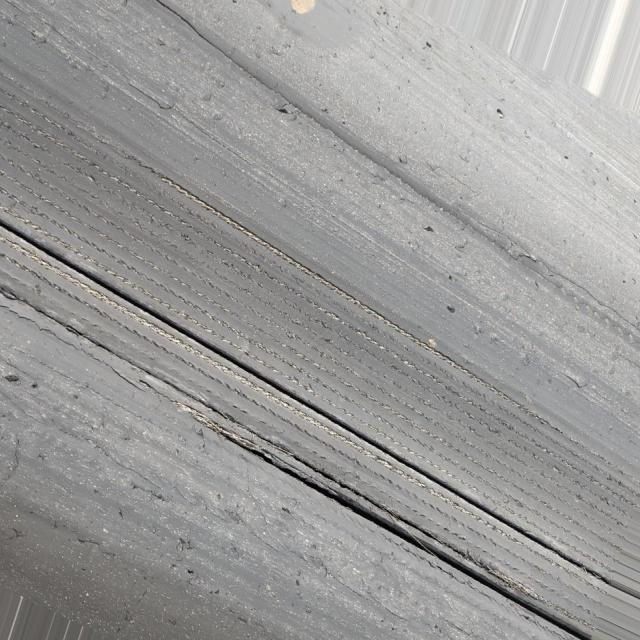Tear: (0, 200, 602, 593), (0, 276, 576, 636), (163, 0, 276, 97)
impact damage: (6, 73, 595, 570)
